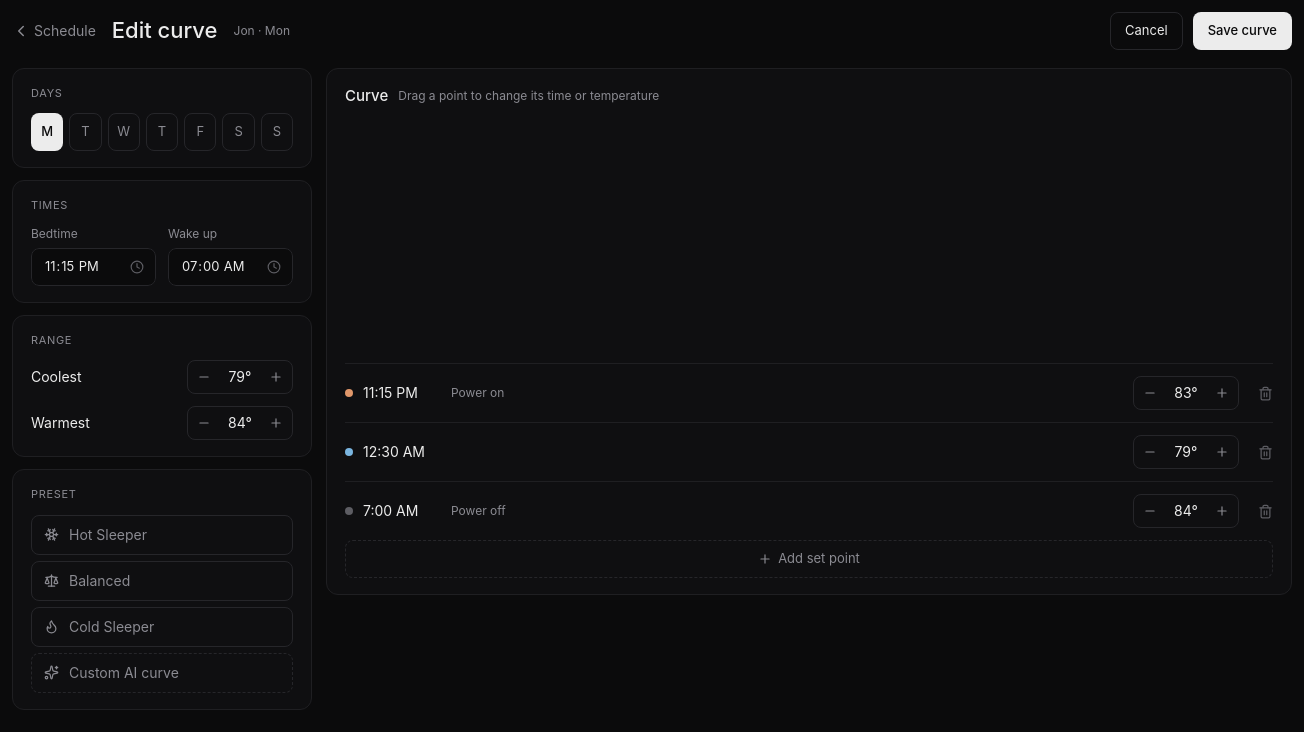
it: CurveEditor › shows save failures inline
Step 1. Click the button "Save curve" → (1242, 31), box [1193,12,1292,50]
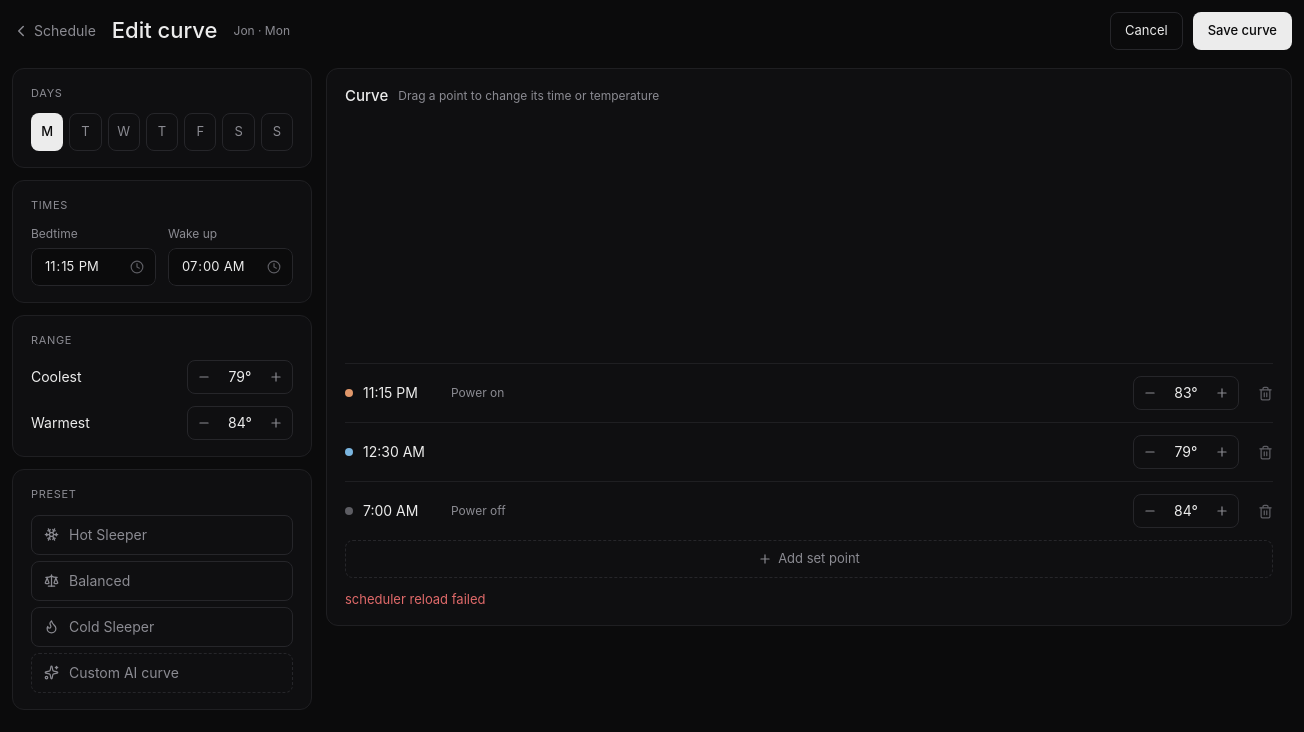
Expected: the text "scheduler reload failed" is shown, [345,590,486,606]
